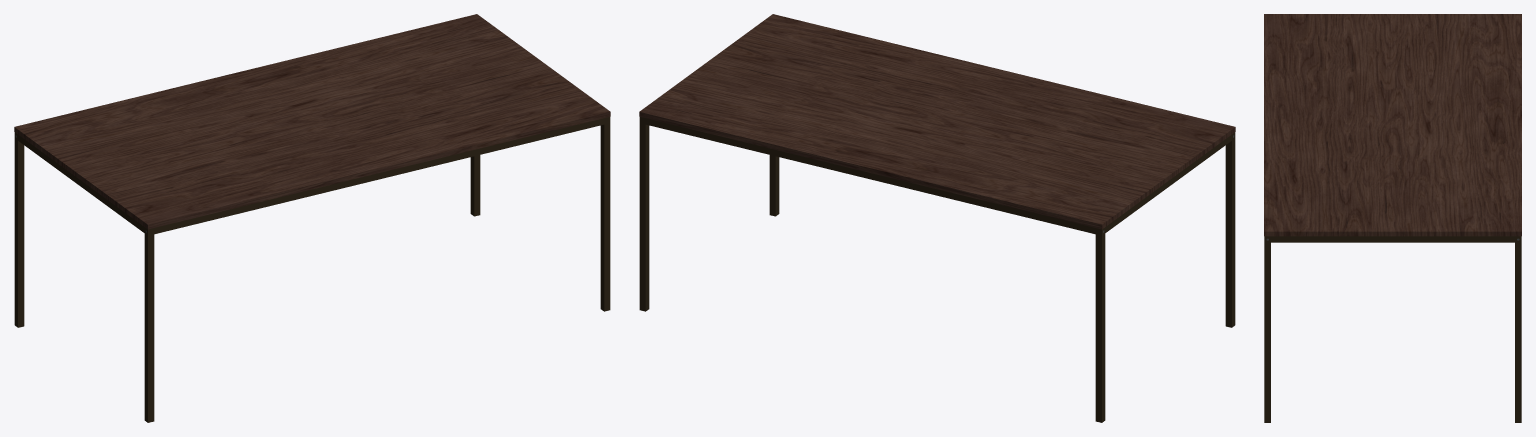
3 views of the same model, side by side, from view 1: azimuth 30°, elevation 25°; view 2: azimuth 150°, elevation 25°; view 3: azimuth 270°, elevation 25° (orthographic). The views are drawn at different scales.
Parts seen in each view (by area): view 1: top, Cube.001, Cube.003, Cube; view 2: top, Cube.001, Cube.002, Cube; view 3: top, Cube.
Boxes of the visible parts, x1=… form: top: x1=14, y1=14, x2=610, y2=229; Cube.001: x1=14, y1=132, x2=154, y2=422; Cube.003: x1=154, y1=118, x2=604, y2=234; Cube: x1=470, y1=117, x2=610, y2=311; top: x1=639, y1=14, x2=1235, y2=229; Cube.001: x1=1095, y1=132, x2=1235, y2=422; Cube.002: x1=645, y1=118, x2=1095, y2=234; Cube: x1=639, y1=117, x2=779, y2=311; top: x1=1264, y1=14, x2=1521, y2=236; Cube: x1=1264, y1=236, x2=1521, y2=422.
Size of the model in its own units: 150 by 61.5 by 75.08.
1 material, 1 textured.
